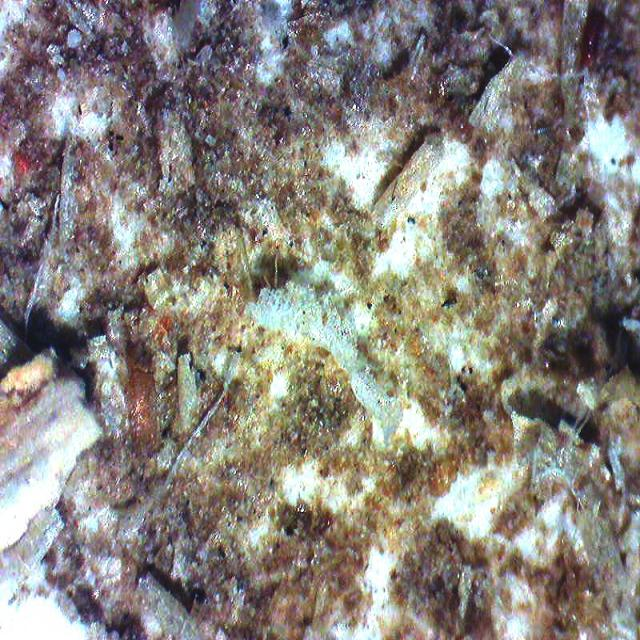microplastic: (244, 277, 403, 439)
